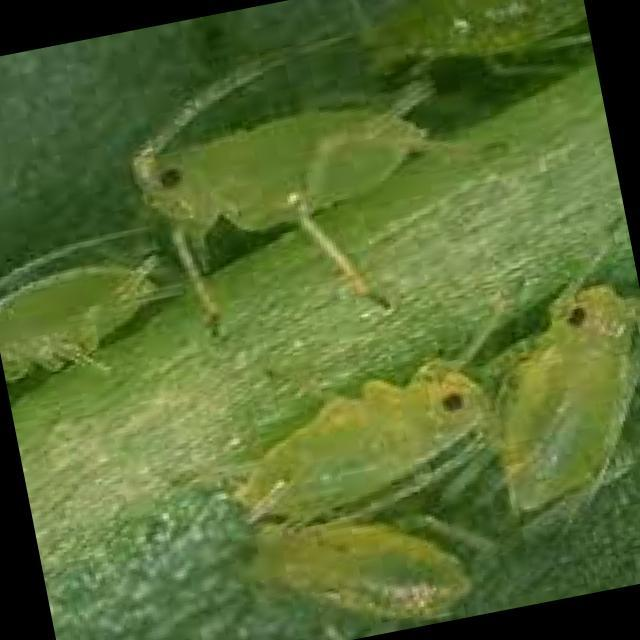aphid: (93, 26, 491, 322), (173, 331, 522, 551), (455, 231, 640, 579)
